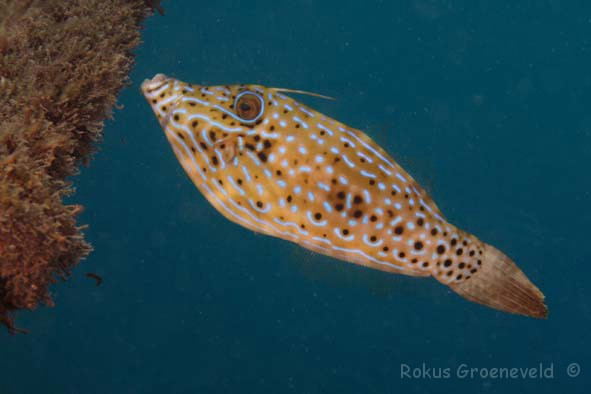Aluterus_scriptus: (136, 66, 553, 321)
